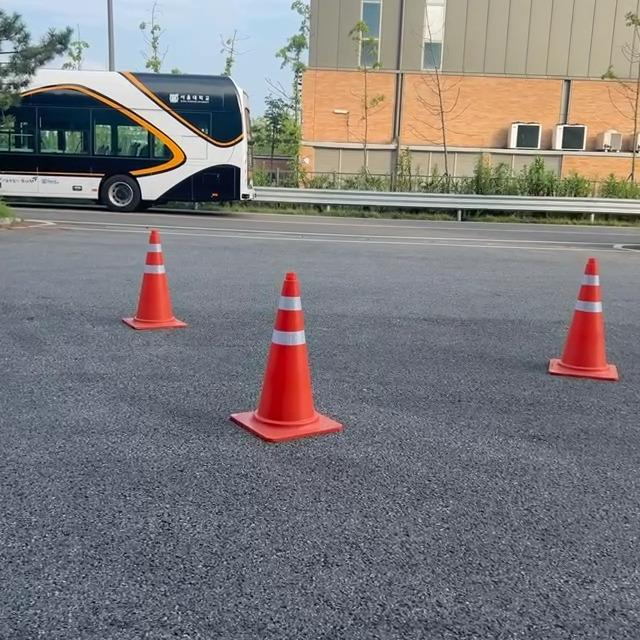fallen_object: (235, 235, 338, 467), (511, 227, 640, 395), (103, 210, 204, 357)
